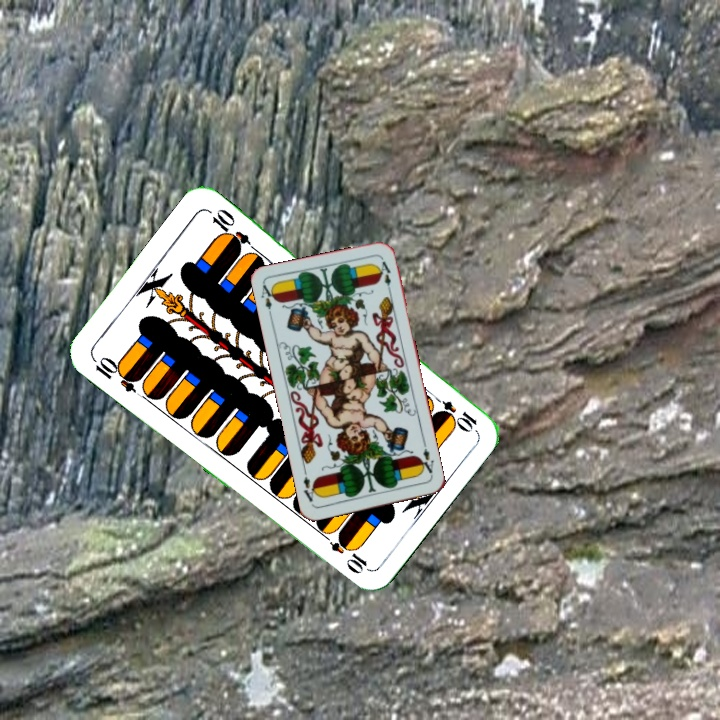E10: (88, 352, 142, 396), (428, 389, 480, 432)
EA: (257, 281, 278, 321), (415, 439, 436, 476)
